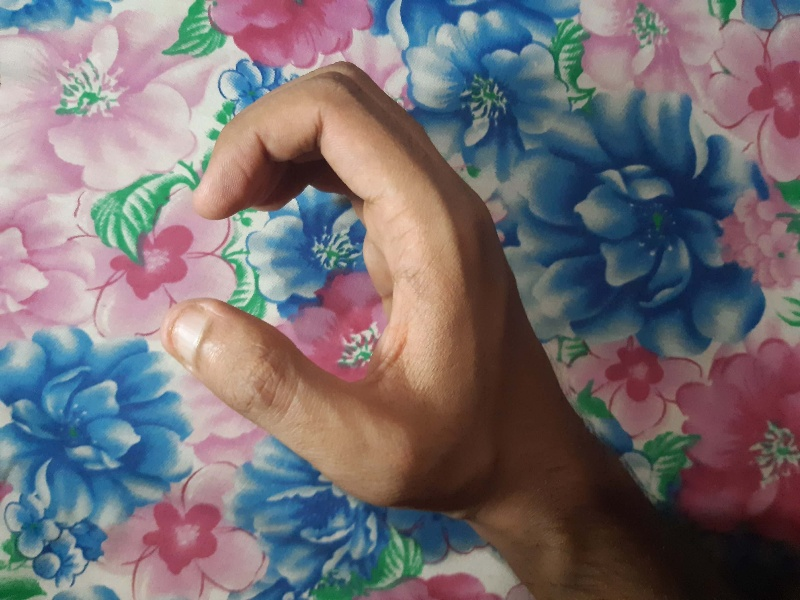one: (169, 44, 529, 538)
